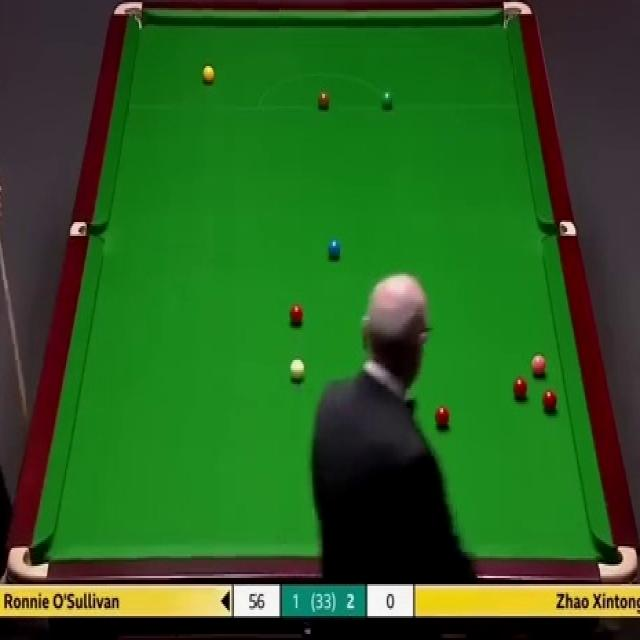blue-ball: (328, 236, 341, 262)
brown-ball: (317, 91, 331, 109)
green-ball: (380, 88, 395, 110)
pink-ball: (530, 353, 547, 377)
red-ball: (512, 375, 527, 401), (434, 406, 450, 428), (544, 389, 558, 413), (289, 303, 303, 324)
white-ball: (289, 358, 305, 382)
yellow-ball: (203, 66, 215, 85)
